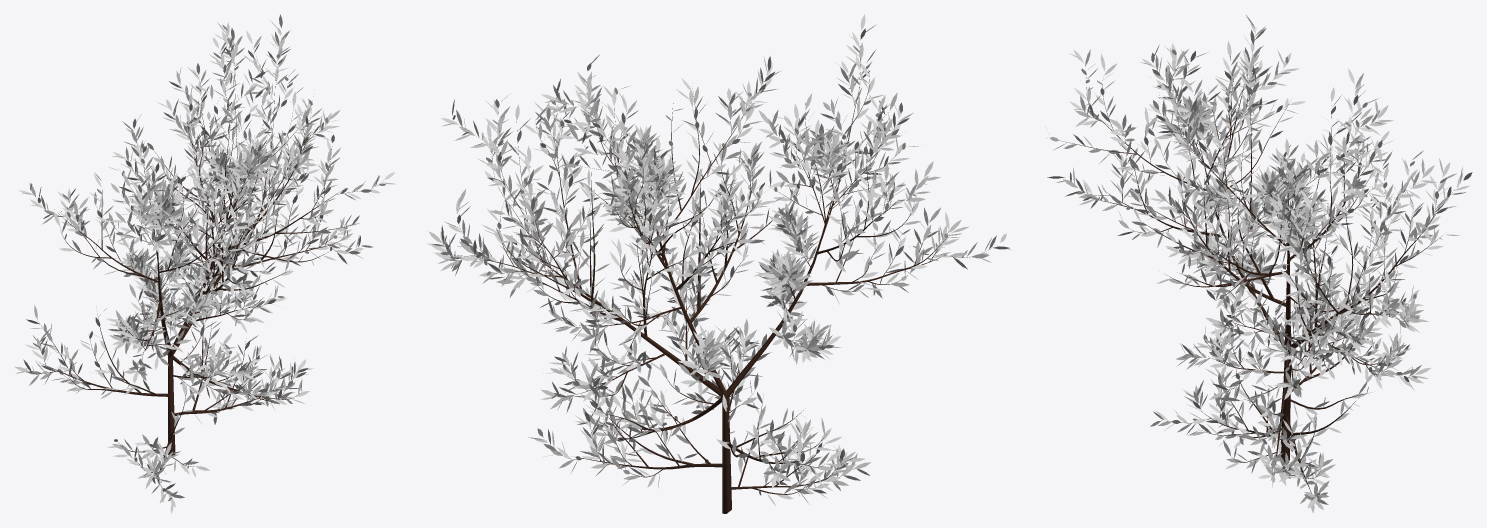
Rendered from BushFull.obj.
3 renders of one model, left to right at view 1: azimuth 30°, elevation 25°; view 2: azimuth 150°, elevation 25°; view 3: azimuth 270°, elevation 25°, orthographic. The views are drawn at different scales.
Parts seen in each view (by area): view 1: bush_leaves; view 2: bush_leaves; view 3: bush_leaves.
Boxes of the visible parts, x1=… form: bush_leaves: x1=14, y1=14, x2=395, y2=513; bush_leaves: x1=427, y1=14, x2=1012, y2=513; bush_leaves: x1=1045, y1=15, x2=1472, y2=513.
Bounding box in the file's own units: 3.21 × 3.3 × 2.94.
